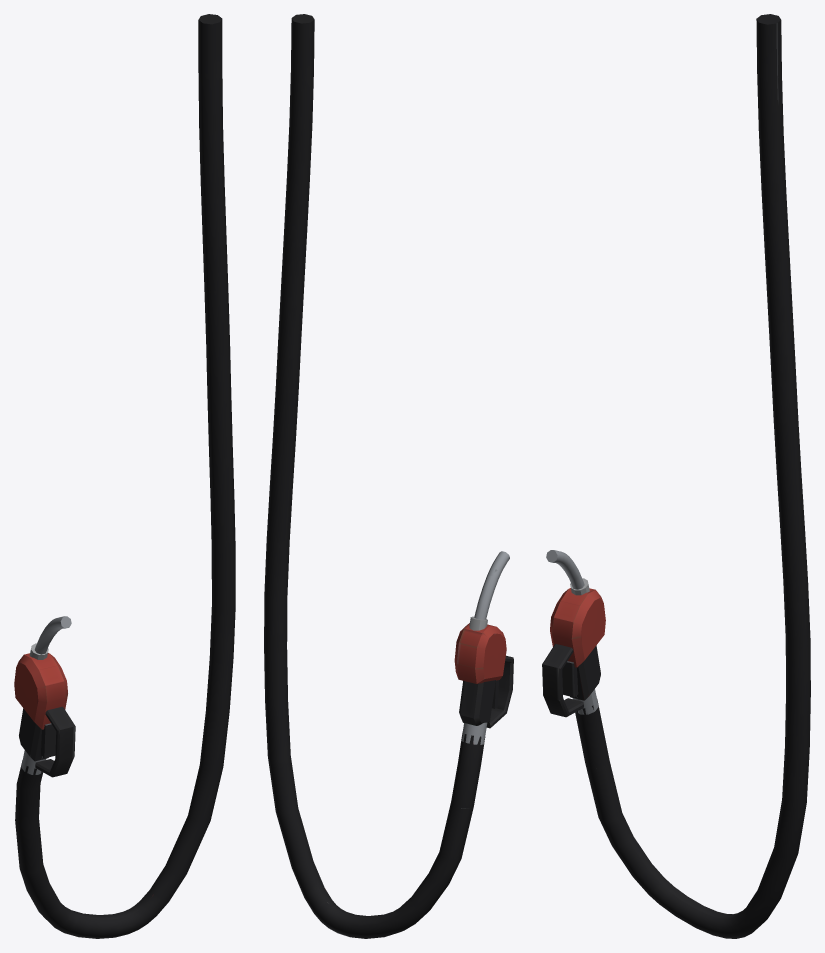
The model's file is nozzle_front_gasoline.obj.
The picture shows the model from 3 angles, left to right: view 1: azimuth 30°, elevation 25°; view 2: azimuth 150°, elevation 25°; view 3: azimuth 330°, elevation 25°; orthographic projection. The views are drawn at different scales.
Parts seen in each view (by area): view 1: hose_gasoline_front, nozzle_gasoline_cover_front, nozzle_gasoline_guard_front, nozzle_gasoline_steel_front, nozzle_gasoline_handle_front; view 2: hose_gasoline_front, nozzle_gasoline_cover_front, nozzle_gasoline_handle_front, nozzle_gasoline_steel_front, nozzle_gasoline_guard_front; view 3: hose_gasoline_front, nozzle_gasoline_cover_front, nozzle_gasoline_guard_front, nozzle_gasoline_steel_front, nozzle_gasoline_handle_front.
Boxes of the visible parts, x1,y1,x2,y2 form: hose_gasoline_front: (15, 14, 235, 938); nozzle_gasoline_cover_front: (14, 653, 67, 729); nozzle_gasoline_guard_front: (35, 706, 75, 777); nozzle_gasoline_steel_front: (21, 616, 71, 774); nozzle_gasoline_handle_front: (19, 708, 48, 761); hose_gasoline_front: (264, 14, 485, 938); nozzle_gasoline_cover_front: (454, 623, 506, 683); nozzle_gasoline_handle_front: (459, 680, 495, 725); nozzle_gasoline_steel_front: (461, 551, 509, 744); nozzle_gasoline_guard_front: (486, 655, 513, 728); hose_gasoline_front: (575, 14, 810, 938); nozzle_gasoline_cover_front: (550, 588, 605, 667); nozzle_gasoline_guard_front: (542, 644, 583, 717); nozzle_gasoline_steel_front: (546, 550, 598, 714); nozzle_gasoline_handle_front: (570, 645, 600, 700).
Bounding box in the file's own units: 0.5577 × 2.2 × 0.2716.
